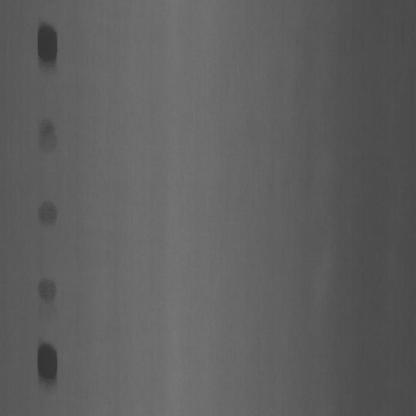oil_spot: (34, 333, 65, 394), (31, 15, 64, 71), (34, 107, 62, 158), (34, 269, 66, 309), (34, 195, 62, 231)
